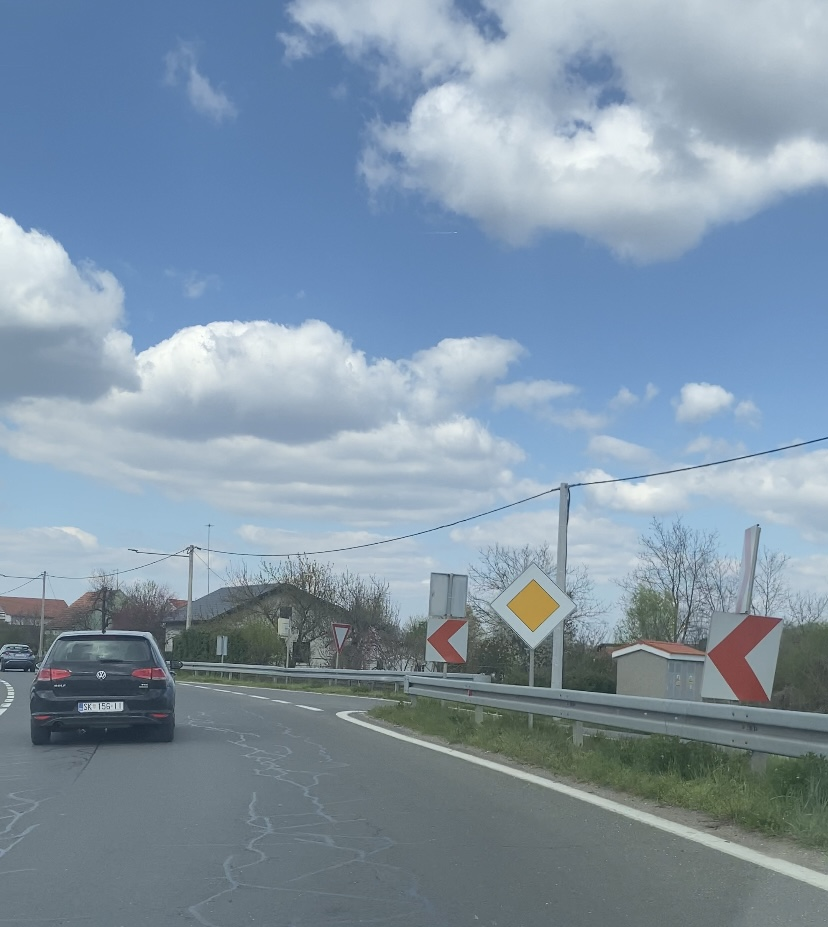Cesta s prednošću prolaska: (490, 562, 578, 650)
